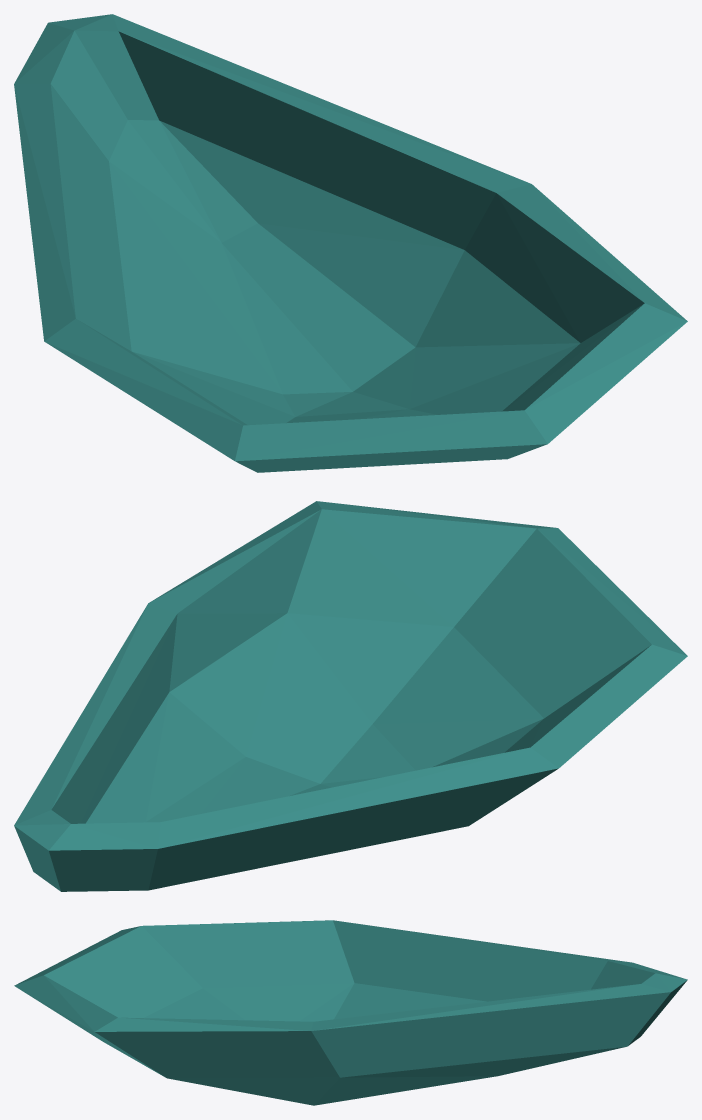
File: SM_Sea_Shell_Mussel_Blue_Half_A.fbx
The picture shows the model from 3 angles, top to bottom: view 1: azimuth 30°, elevation 25°; view 2: azimuth 150°, elevation 25°; view 3: azimuth 270°, elevation 25°; orthographic projection. The views are drawn at different scales.
Visible parts, largest first — view 1: sea-shell-mussel-blue-half-a; view 2: sea-shell-mussel-blue-half-a; view 3: sea-shell-mussel-blue-half-a.
Part boxes in pixels (<box>): sea-shell-mussel-blue-half-a: <box>14,14,687,472</box>; sea-shell-mussel-blue-half-a: <box>14,501,687,891</box>; sea-shell-mussel-blue-half-a: <box>14,920,687,1105</box>.
Size of the model in its own units: 0.079 by 0.0304 by 0.1544.
